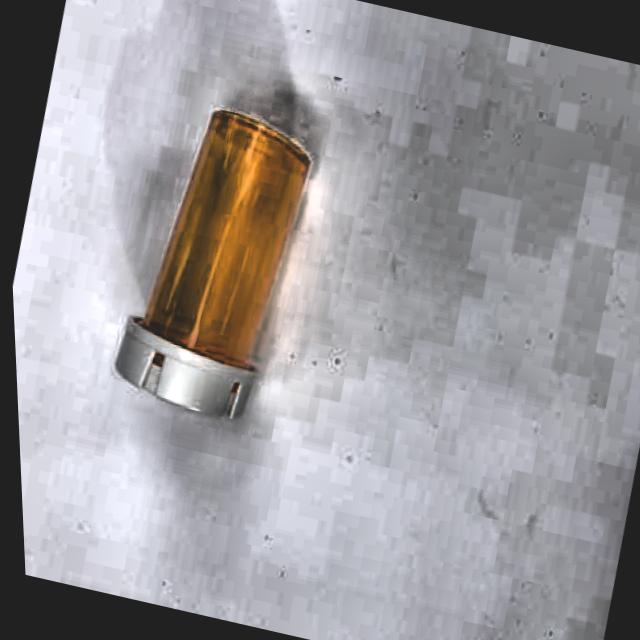Plastic: (85, 75, 332, 460)
